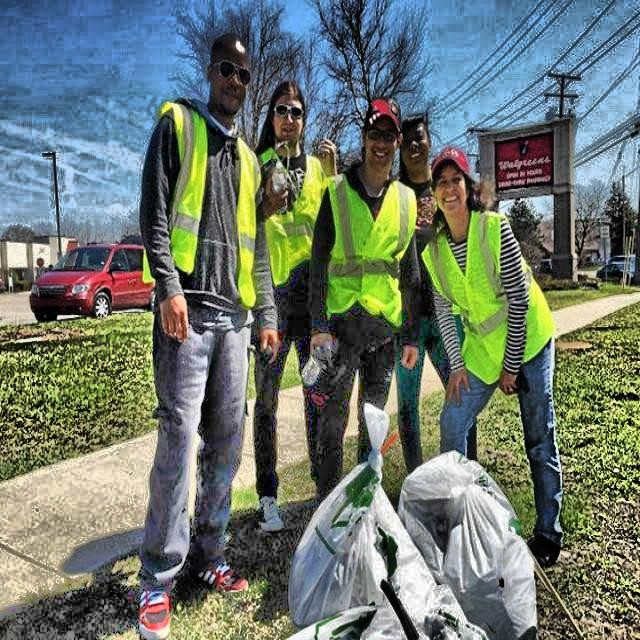safety_jacket: (158, 105, 255, 301), (328, 182, 410, 324), (438, 222, 506, 388), (269, 154, 321, 296)
